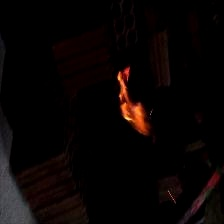fire: (99, 59, 159, 157)
